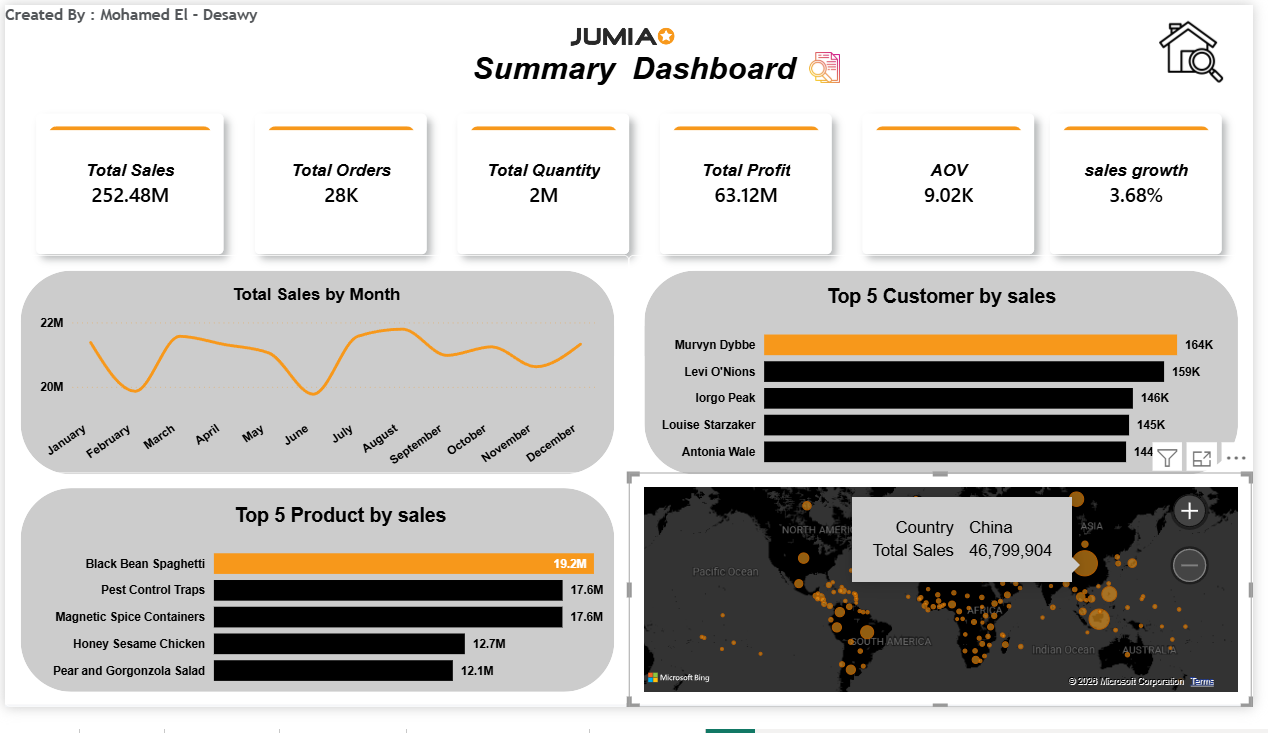

Layout of this report page (visuals, bound fields, positions):
{"tool":"powerbi","page":{"name":"Summary","canvas":[1280,720],"ordinal":5},"visuals":[{"type":"cardVisual","fields":{"Data":["address.Totalsales"]},"box":[32,112,192,144],"z":0},{"type":"cardVisual","fields":{"Data":["address.Totalorders"]},"box":[256,112,176,144],"z":1000},{"type":"cardVisual","fields":{"Data":["address.TotalQuantity"]},"box":[464,112,176,144],"z":2000},{"type":"cardVisual","fields":{"Data":["address.Profit"]},"box":[672,112,176,144],"z":3000},{"type":"cardVisual","title":"Average Order Value","fields":{"Data":["address.AOV"]},"box":[880,112,176,144],"z":4000},{"type":"map","fields":{"Category":["address.Country"],"Size":["orders.Total Sales"]},"box":[640,480,640,240],"z":5000},{"type":"image","box":[512,0,240,64],"z":6000},{"type":"textbox","box":[480,48,336,48],"z":7000},{"type":"cardVisual","title":"Average Order Value","fields":{"Data":["orderdetails.sales growth"]},"box":[1072,112,176,144],"z":8000},{"type":"shape","box":[0,256,640,240],"z":9000},{"type":"lineChart","title":"Total Sales by Month","fields":{"Category":["calendar.DATE.Variation.Date Hierarchy.Month"],"Y":["address.Total Sales"]},"box":[16,272,608,224],"z":10000},{"type":"image","box":[1152,0,128,96],"z":11000},{"type":"shape","box":[0,480,640,240],"z":12000},{"type":"shape","box":[640,256,640,240],"z":13000},{"type":"barChart","title":"Top 5 Customer by sales","fields":{"Y":["Sum(orders.TotalAmount)"],"Category":["customers.Full name"]},"box":[656,272,608,224],"z":14000},{"type":"barChart","title":"Top 5 Product by sales","fields":{"Y":["address.Total Sales"],"Category":["products.ProductName"]},"box":[32,496,624,224],"z":15000},{"type":"textbox","box":[0,0,272,32],"z":16000},{"type":"image","box":[752,32,176,64],"z":17000}]}

Visuals, with their boxes in screenshot pixels (x1, y1, x2, y2), scaled from the page's 1280x720 canvas onto the 1268x733 screenshot:
cardVisual - address.Totalsales: 32 114 222 261
cardVisual - address.Totalorders: 254 114 428 261
cardVisual - address.TotalQuantity: 460 114 634 261
cardVisual - address.Profit: 666 114 840 261
"Average Order Value" cardVisual: 872 114 1046 261
map - address.Country x orders.Total Sales: 634 489 1267 732
image: 507 0 745 65
textbox: 476 49 808 98
"Average Order Value" cardVisual: 1062 114 1236 261
shape: 0 261 634 505
"Total Sales by Month" lineChart: 16 277 618 505
image: 1141 0 1267 98
shape: 0 489 634 732
shape: 634 261 1267 505
"Top 5 Customer by sales" barChart: 650 277 1252 505
"Top 5 Product by sales" barChart: 32 505 650 732
textbox: 0 0 269 33
image: 745 33 919 98
